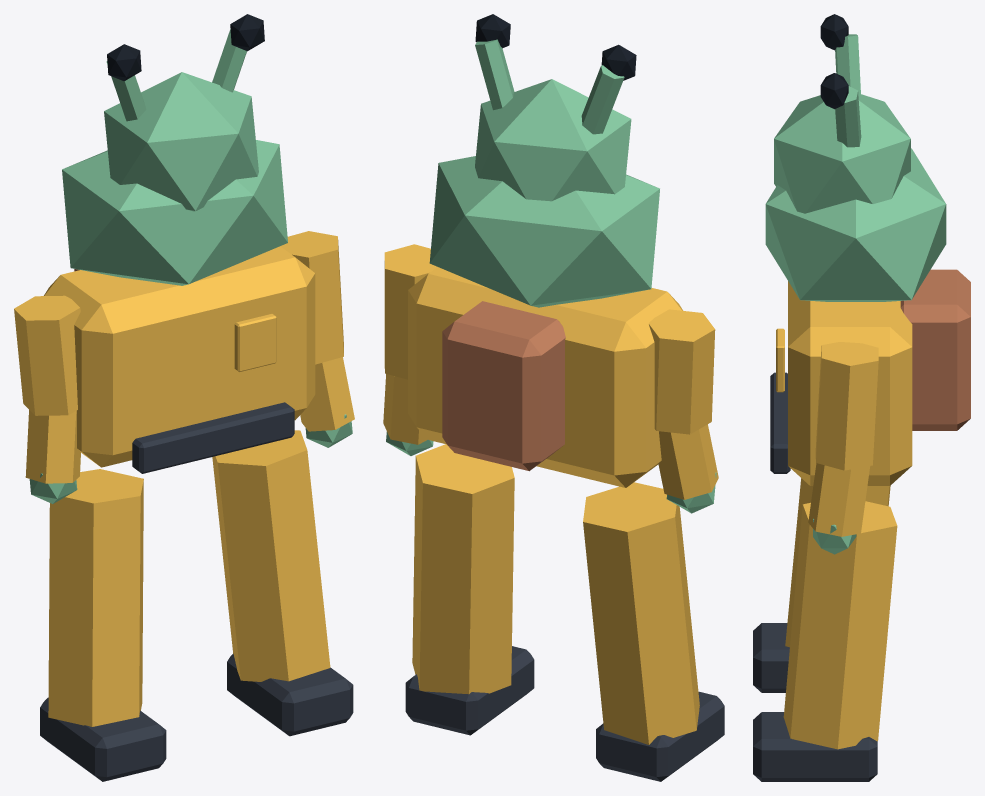
Rendered from npcs_025_seed11.glb.
3 renders of one model, left to right at view 1: azimuth 30°, elevation 25°; view 2: azimuth 150°, elevation 25°; view 3: azimuth 270°, elevation 25°, orthographic. The views are drawn at different scales.
Parts seen in each view (by area): view 1: npcs_025_seed11; view 2: npcs_025_seed11; view 3: npcs_025_seed11.
Part boxes in pixels (x1,y1,x2,y2): npcs_025_seed11: [14, 14, 354, 781]; npcs_025_seed11: [383, 14, 724, 781]; npcs_025_seed11: [753, 14, 970, 781].
Size of the model in its own units: 0.9459 by 1.94 by 0.5639.
